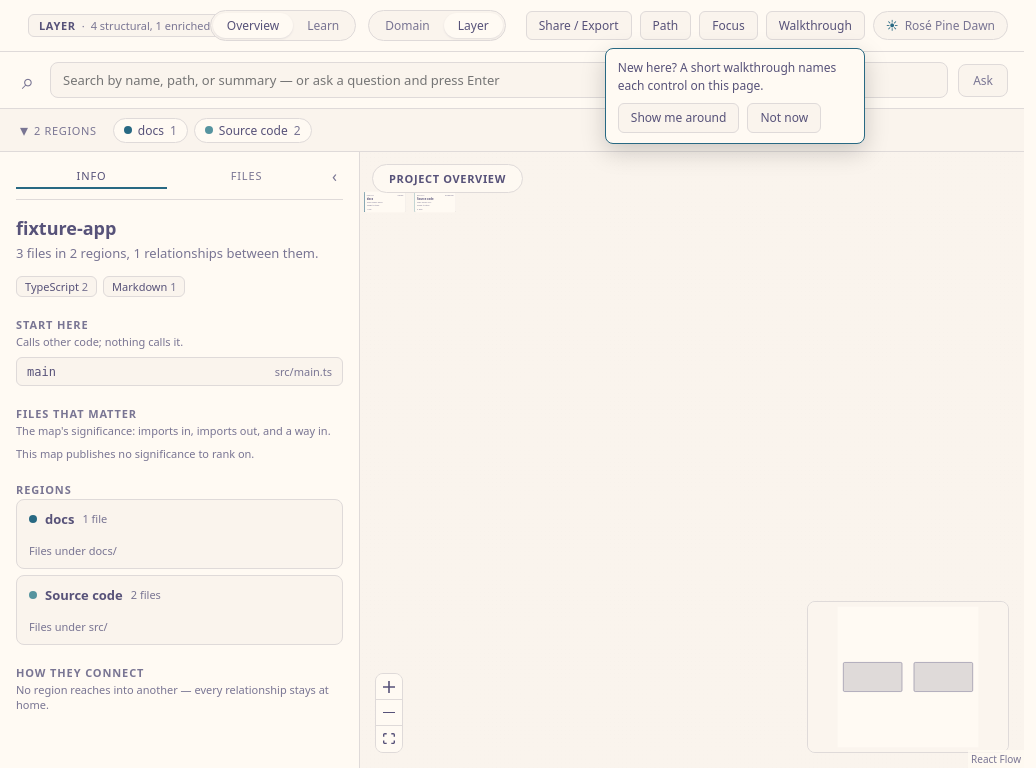
asking the map a question › makes a citation a way into the map
In the search field named "Search nodes": (499, 80) [50, 62, 948, 98], type "where does the program start?"
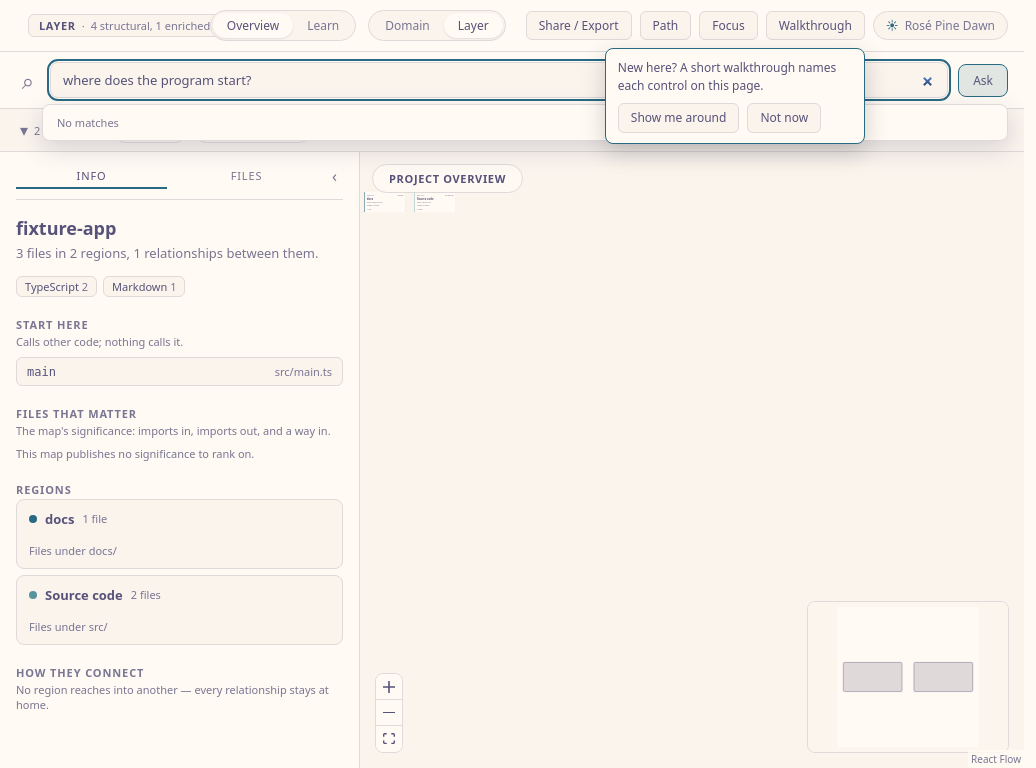
Click the button "Ask": (983, 80) [958, 64, 1008, 96]
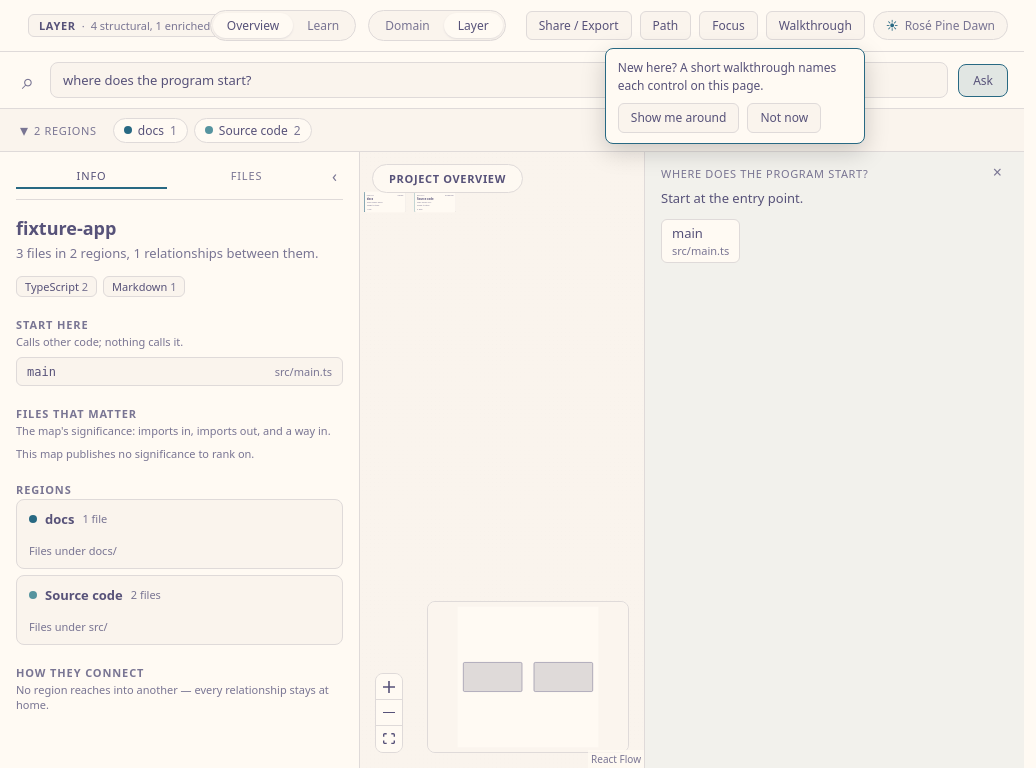
Click the button "main src/main.ts" below "Start at the entry point.": (701, 240) [661, 218, 740, 262]
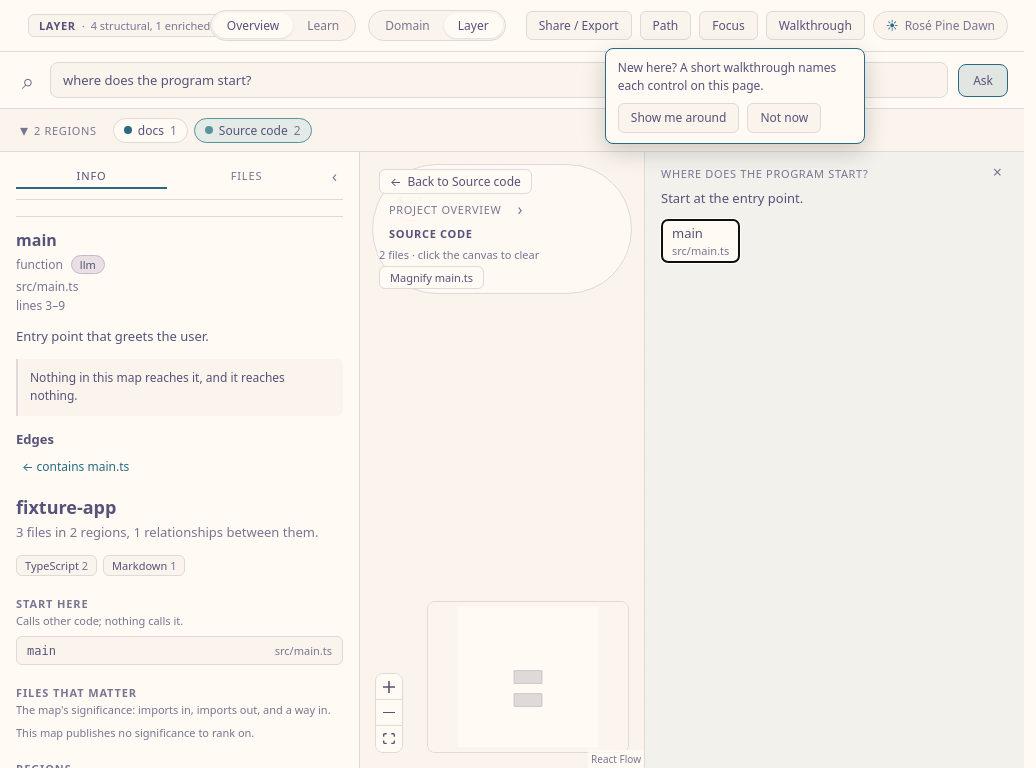
Now the element named "Answer" is shown, box [644, 152, 1024, 767]
Now the heading "main" is shown, box [16, 229, 57, 251]
